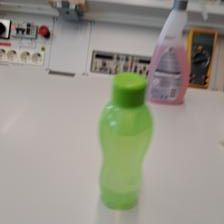bottle: (95, 68, 155, 213)
